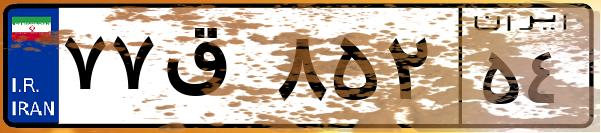2: (385, 28, 445, 110)
4: (525, 38, 570, 115)
5: (330, 28, 385, 110), (475, 38, 525, 113)
7: (57, 26, 110, 100), (110, 28, 158, 98)
8: (270, 28, 330, 110)
ق: (158, 20, 270, 120)
